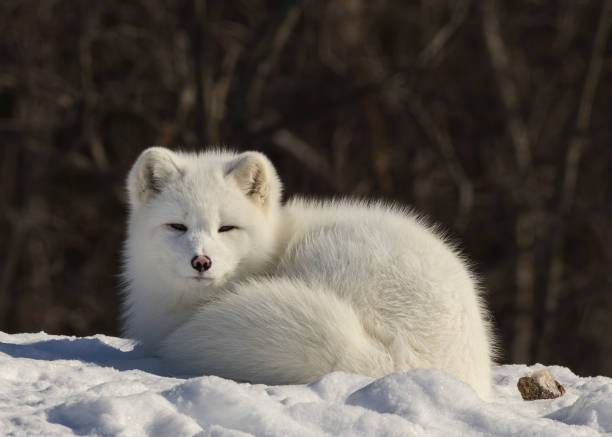arcticfox: (143, 187, 258, 291)
